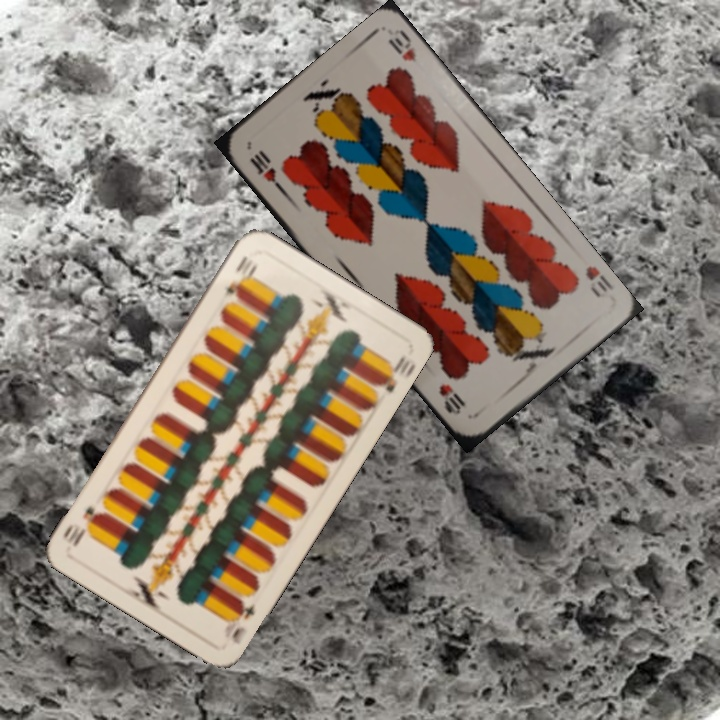E10: (221, 251, 258, 298), (227, 596, 259, 647)
H10: (245, 147, 288, 195), (581, 261, 616, 301)
